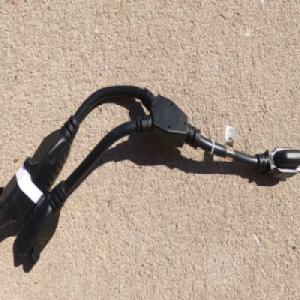Wire: (0, 84, 300, 268)
